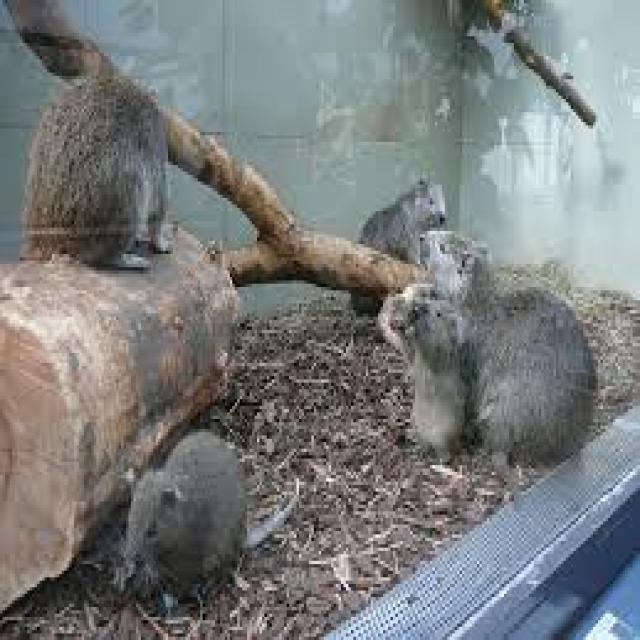rat: (376, 224, 598, 468)
